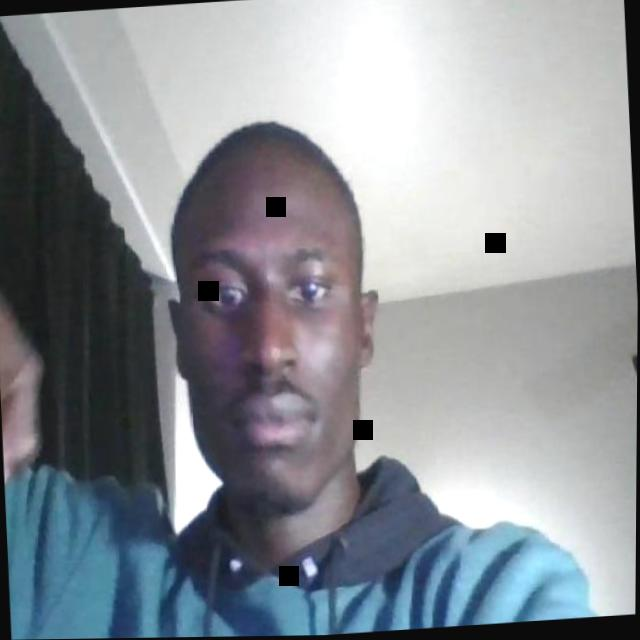NO-Mask: (172, 204, 370, 521)
